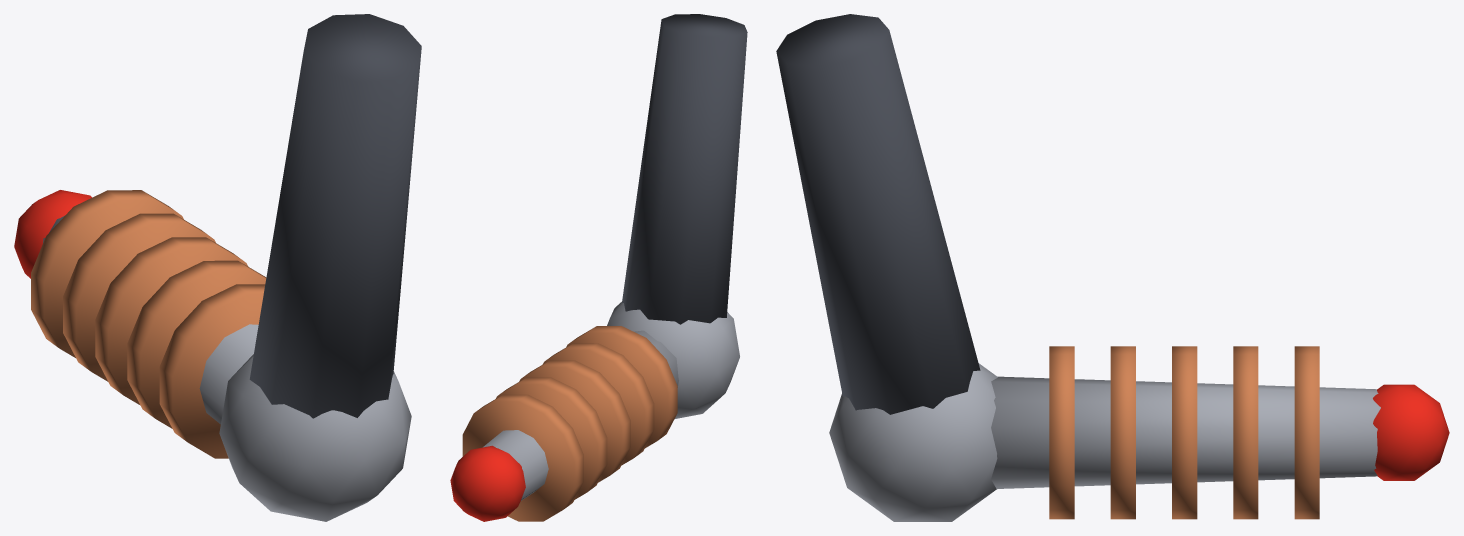
File: prime_laser.glb
The picture shows the model from 3 angles, left to right: view 1: azimuth 30°, elevation 25°; view 2: azimuth 150°, elevation 25°; view 3: azimuth 270°, elevation 25°; orthographic projection. The views are drawn at different scales.
Parts seen in each view (by area): view 1: prime_laser; view 2: prime_laser; view 3: prime_laser.
Boxes of the visible parts, <box> form: prime_laser: <box>14,14,421,521</box>; prime_laser: <box>450,14,747,521</box>; prime_laser: <box>776,14,1449,521</box>.
Size of the model in its own units: 0.4946 by 1.49 by 1.87.
